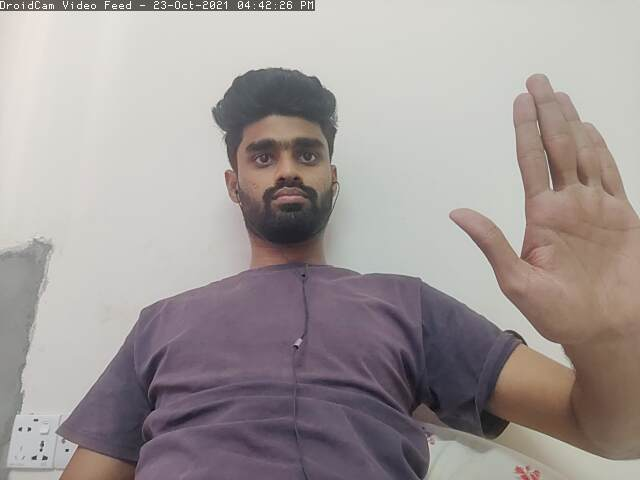Stop: (446, 54, 640, 358)
